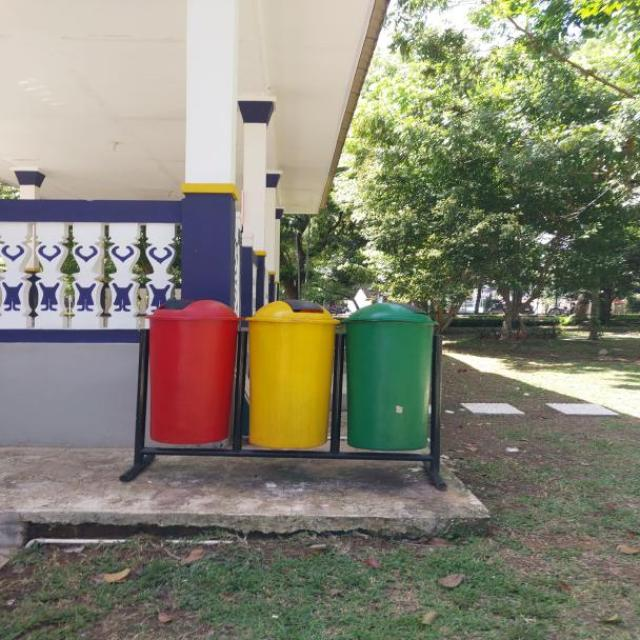dustbin ahead at: (141, 297, 437, 455)
